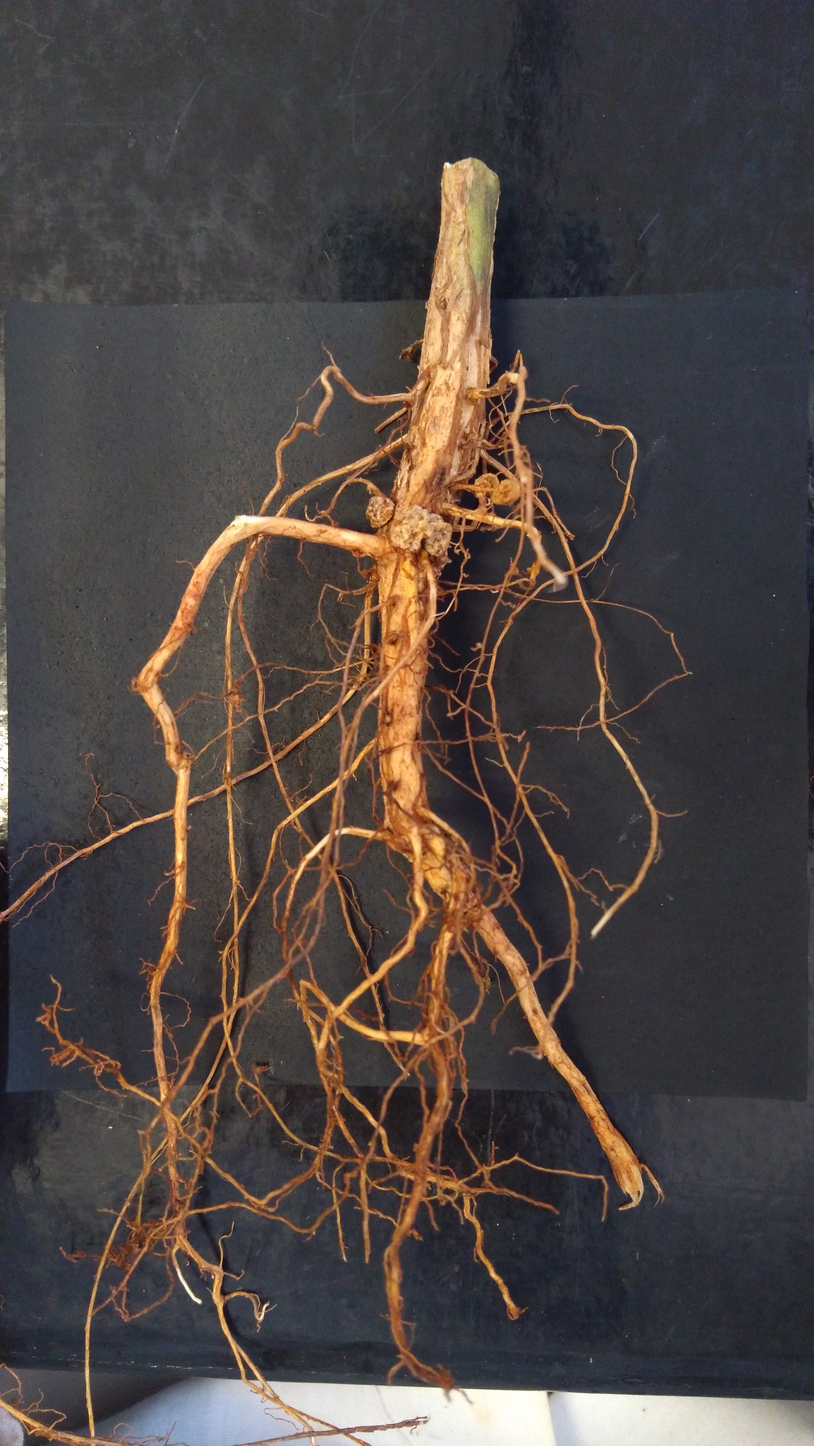nodule: (390, 504, 429, 554), (424, 511, 453, 558), (364, 495, 395, 529), (127, 1221, 158, 1254), (491, 478, 522, 506), (473, 472, 499, 499), (417, 566, 442, 592), (429, 548, 450, 573), (426, 834, 445, 858), (228, 686, 246, 706), (252, 1064, 270, 1074), (508, 373, 522, 384), (352, 551, 371, 558), (509, 563, 518, 575), (360, 568, 369, 578), (476, 642, 482, 649), (525, 567, 532, 572), (175, 1153, 182, 1157)
